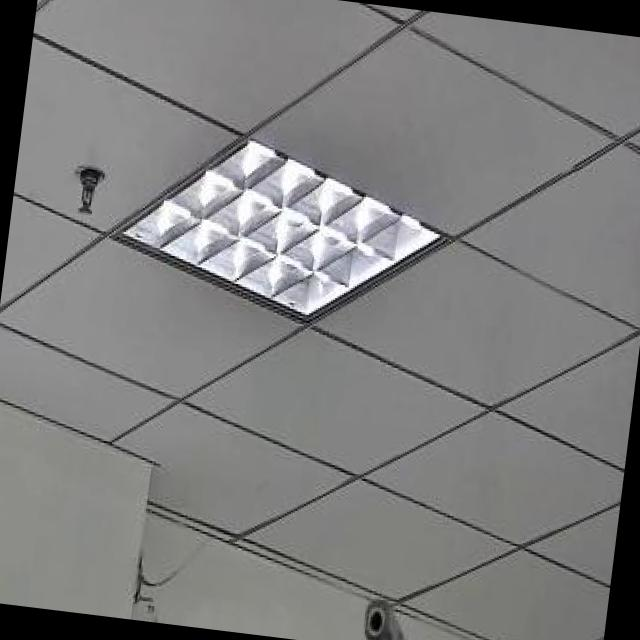Guns: (317, 539, 510, 640)
